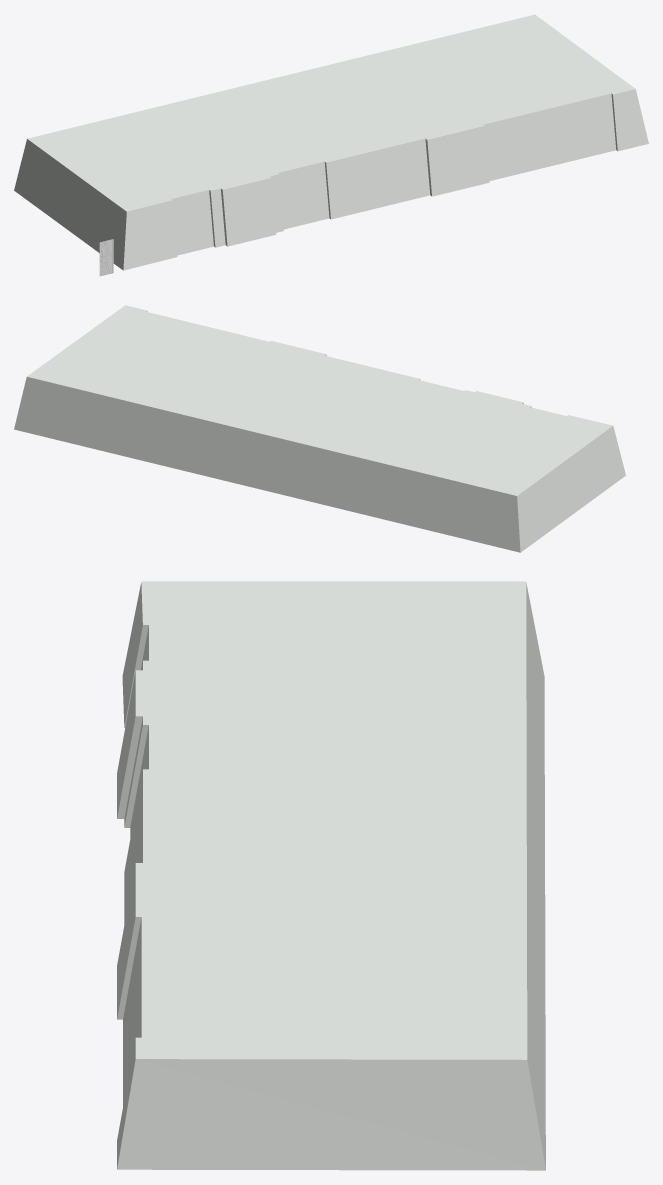
The model's file is TombX.glb.
3 renders of one model, top to bottom at view 1: azimuth 30°, elevation 25°; view 2: azimuth 150°, elevation 25°; view 3: azimuth 270°, elevation 25°, orthographic. The views are drawn at different scales.
Parts seen in each view (by area): view 1: Mesh1 Model, Mesh2 Model; view 2: Mesh1 Model; view 3: Mesh1 Model.
Part boxes in pixels (bbox=[...]): Mesh1 Model: bbox=[14, 14, 648, 270]; Mesh2 Model: bbox=[99, 239, 113, 276]; Mesh1 Model: bbox=[14, 305, 625, 552]; Mesh1 Model: bbox=[117, 581, 545, 1170].
Bounding box in the file's own units: 26.93 × 2.5 × 9.45.
Materials: 2 (2 with a texture image).
